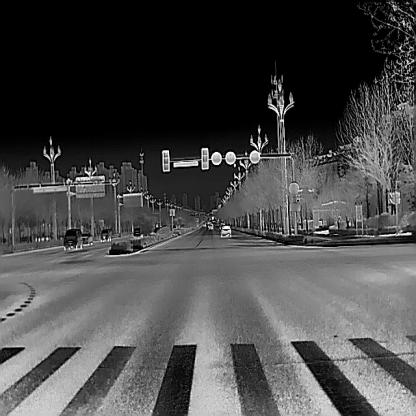car: (62, 227, 82, 251), (100, 228, 111, 242), (82, 230, 92, 245), (219, 224, 231, 236), (133, 226, 143, 236), (209, 223, 213, 229), (202, 221, 206, 226)
